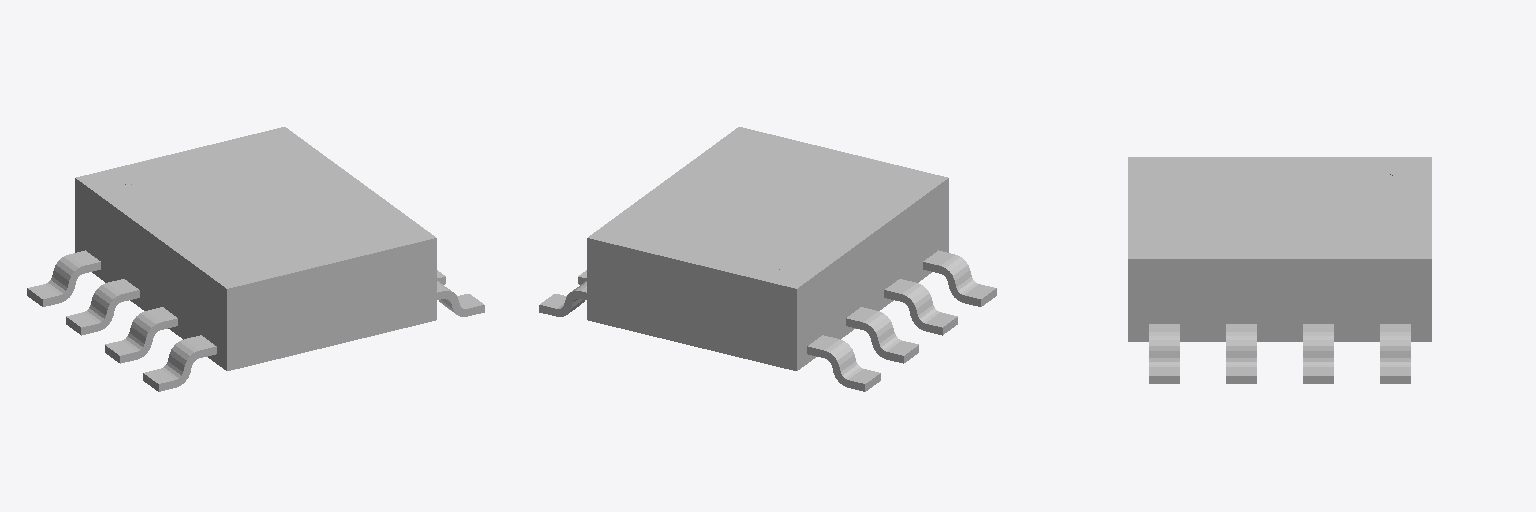
File: R_8_ADI.obj
The picture shows the model from 3 angles: view 1: azimuth 30°, elevation 25°; view 2: azimuth 150°, elevation 25°; view 3: azimuth 270°, elevation 25°; orthographic projection.
Parts seen in each view (by area): view 1: part/SOLID; view 2: part/SOLID; view 3: part/SOLID.
Boxes of the visible parts, x1,y1,x2,y2 form: part/SOLID: [27, 127, 484, 391]; part/SOLID: [539, 127, 996, 391]; part/SOLID: [1128, 157, 1431, 383].
Size of the model in its own units: 6.2 by 1.75 by 5.